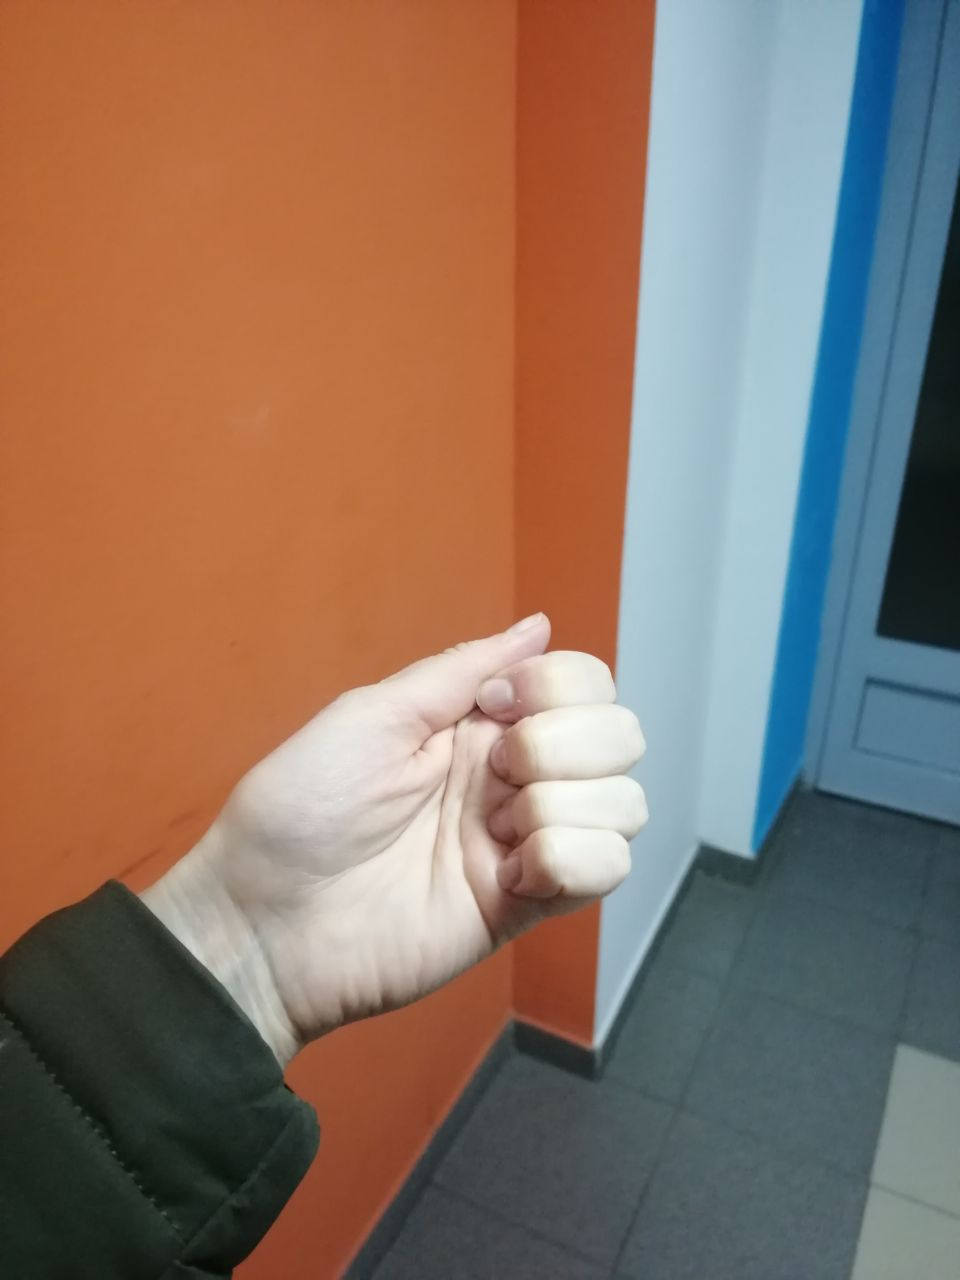hand: (287, 643, 626, 901)
